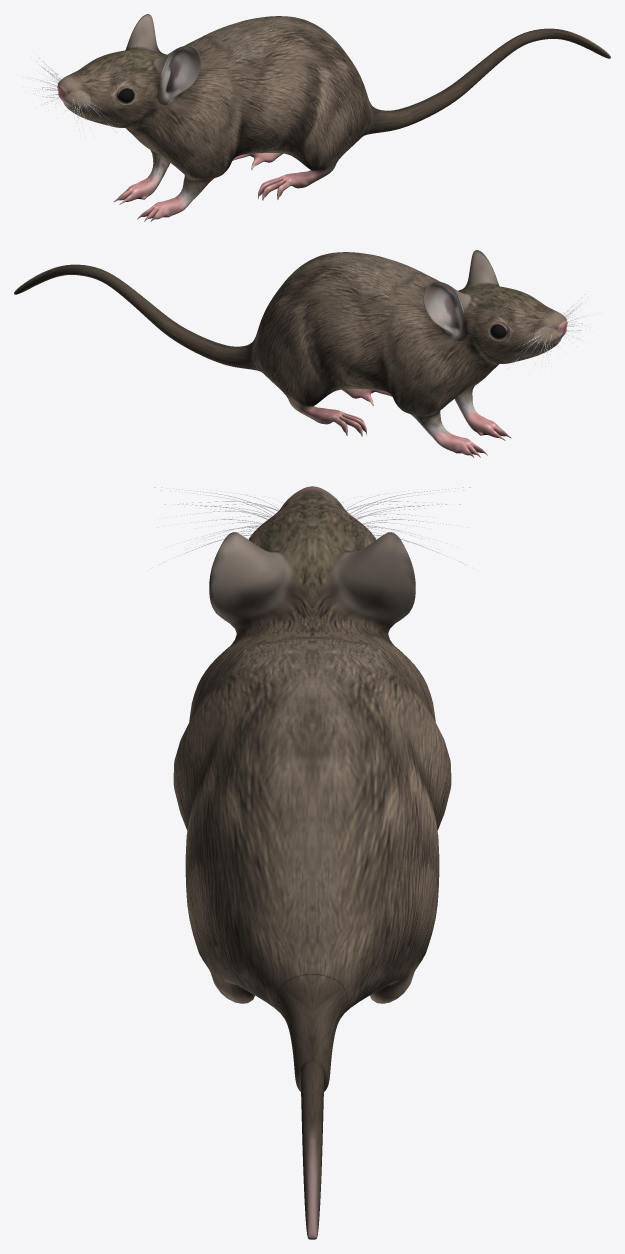
3 views of the same model, one above another, from view 1: azimuth 30°, elevation 25°; view 2: azimuth 150°, elevation 25°; view 3: azimuth 270°, elevation 25° (orthographic). The views are drawn at different scales.
Visible parts, largest first — view 1: House_Mouse _0, moustache_1; view 2: House_Mouse _0, moustache_1; view 3: House_Mouse _0, moustache_1.
Boxes of the visible parts, bbox=[...] form: House_Mouse _0: bbox=[57, 14, 610, 221]; moustache_1: bbox=[29, 52, 116, 132]; House_Mouse _0: bbox=[14, 250, 567, 457]; moustache_1: bbox=[508, 288, 595, 368]; House_Mouse _0: bbox=[173, 486, 451, 1239]; moustache_1: bbox=[151, 487, 473, 568].
Bounding box in the file's own units: 4.79 × 1.41 × 1.22.
Materials: 3 (1 with a texture image).
